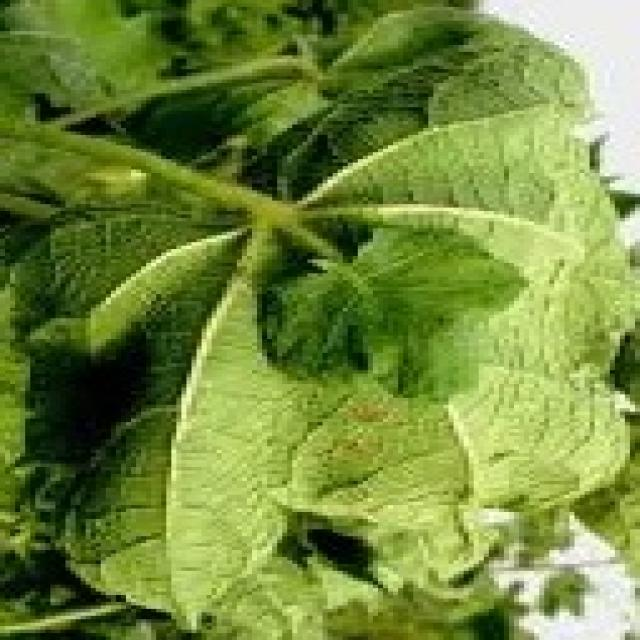Leaf Curl Virus: (87, 21, 553, 516)
